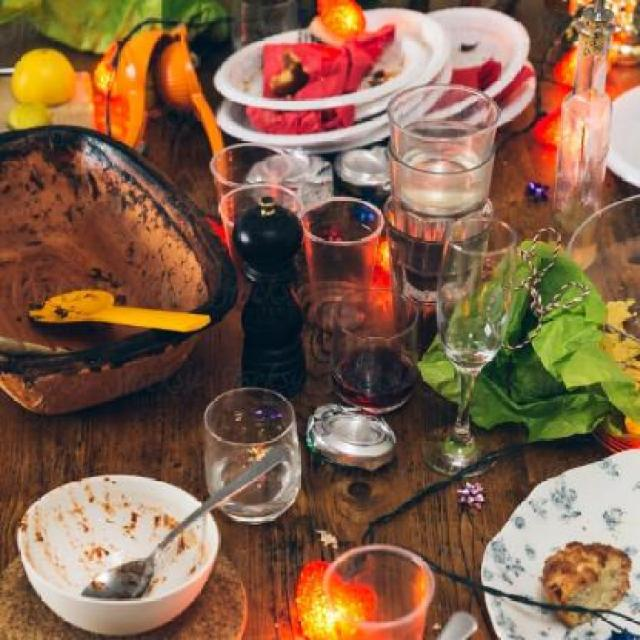Bowl: (17, 475, 220, 634)
Glass: (443, 220, 515, 497), (390, 155, 476, 317), (197, 388, 301, 520), (330, 292, 424, 403), (321, 556, 434, 638), (303, 205, 372, 323), (383, 101, 499, 168), (212, 156, 286, 198), (223, 192, 299, 218)
Plate: (209, 22, 414, 98), (418, 12, 536, 100), (602, 92, 638, 185)
